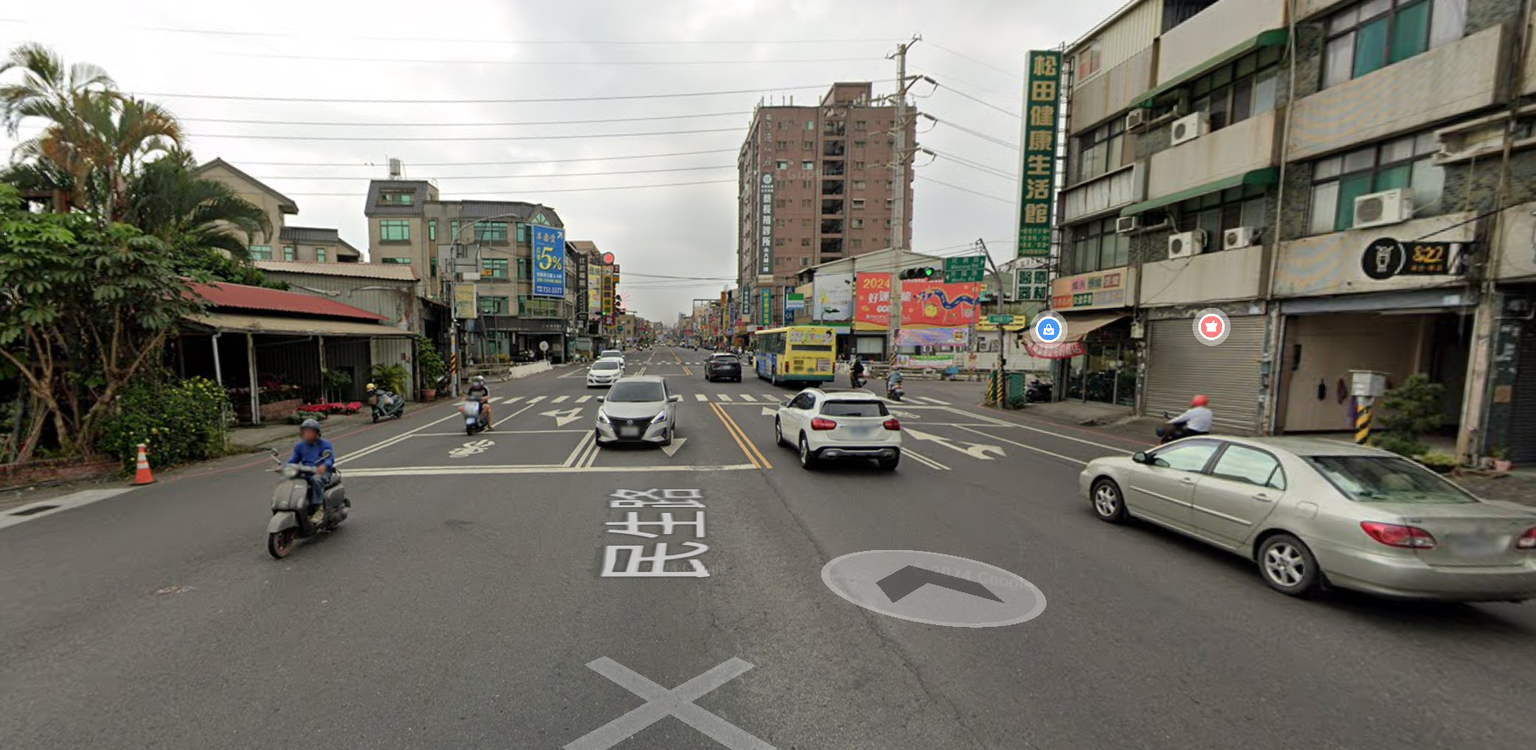green: (902, 268, 939, 279)
